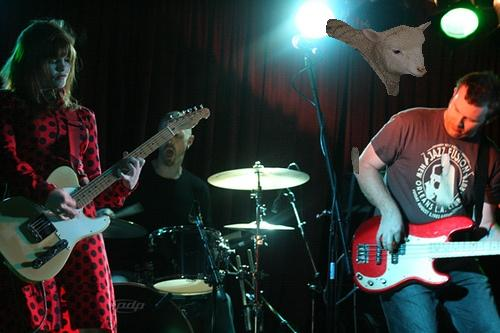tampered: (327, 20, 431, 174)
